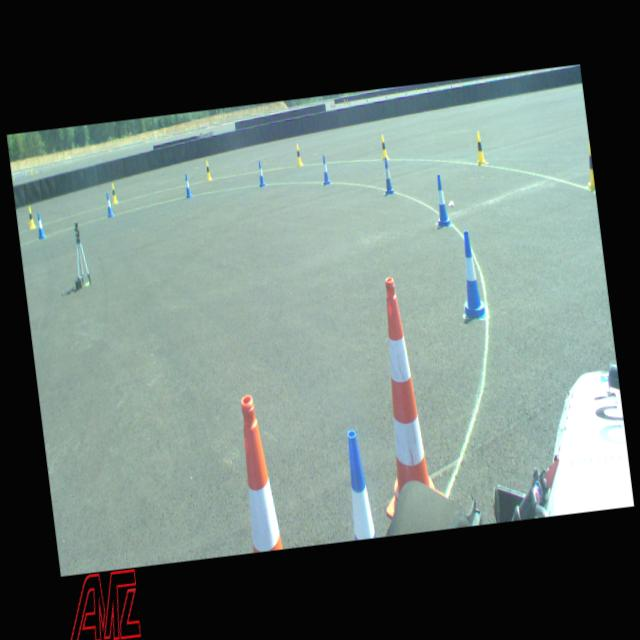blue_cone: (341, 429, 377, 540), (455, 229, 486, 321), (432, 172, 450, 228), (380, 157, 394, 195), (34, 211, 46, 239), (320, 154, 330, 184), (182, 172, 192, 198), (104, 192, 114, 216), (256, 160, 265, 186)
large_orange_cone: (358, 274, 446, 520), (234, 392, 284, 552)
yellow_cone: (582, 141, 594, 189), (474, 130, 486, 166), (379, 134, 388, 159), (27, 206, 36, 228), (294, 143, 302, 166), (110, 182, 118, 204), (204, 160, 212, 180)
